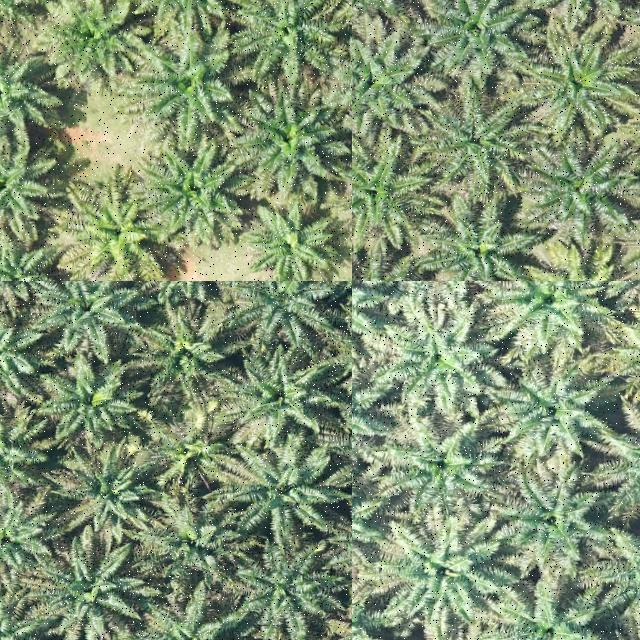Ganoderma: (619, 316, 640, 382)
